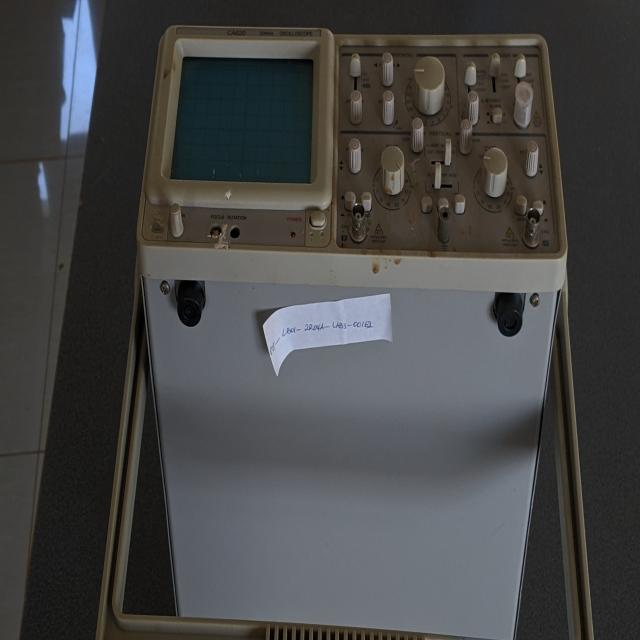Cathode Ray Oscilloscope: (133, 17, 575, 529)
